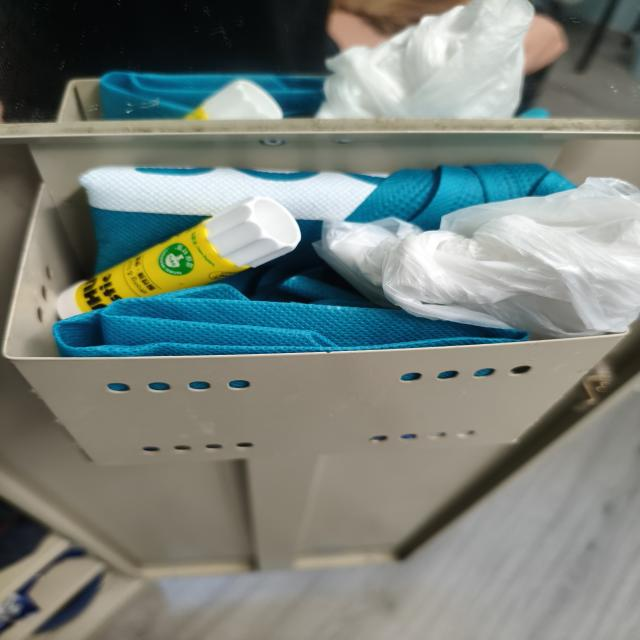glue: (57, 197, 301, 319)
